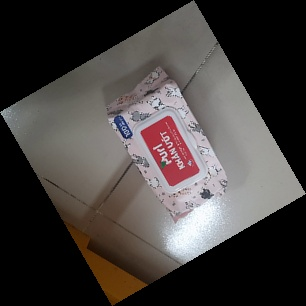Puri hong: (105, 65, 229, 224)
